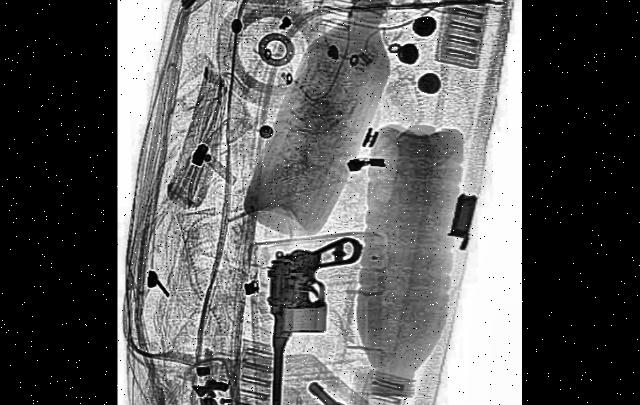Gun: (260, 231, 372, 405), (294, 354, 403, 405)
